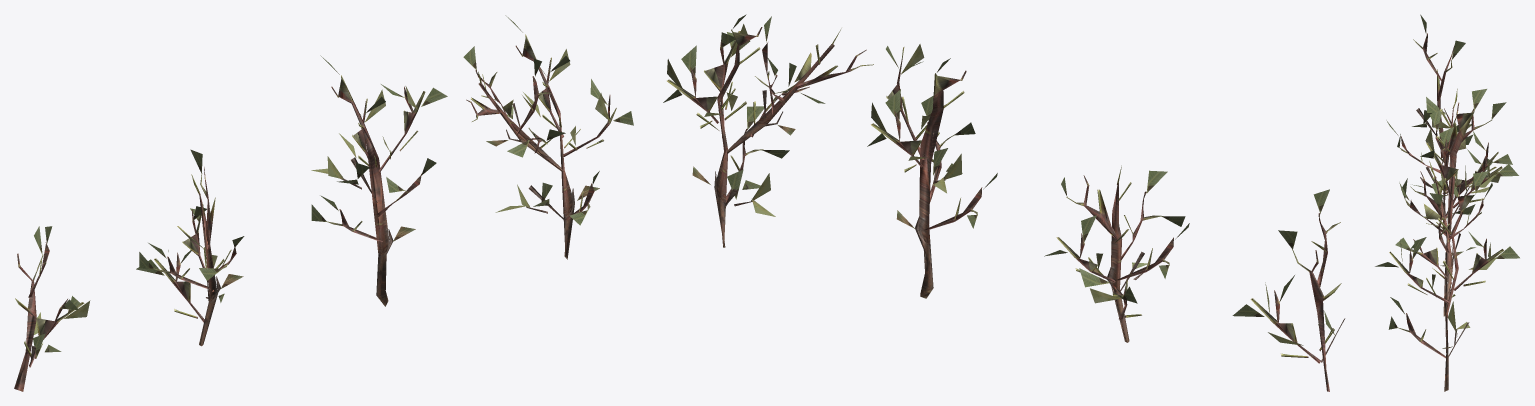
Rendered from hedge.glb.
The picture shows the model from 3 angles, left to right: view 1: azimuth 30°, elevation 25°; view 2: azimuth 150°, elevation 25°; view 3: azimuth 270°, elevation 25°; orthographic projection. The views are drawn at different scales.
Parts seen in each view (by area): view 1: hedge; view 2: hedge; view 3: hedge.
Boxes of the visible parts, x1,y1,x2,y2 form: hedge: (14, 15, 633, 391); hedge: (663, 14, 1345, 391); hedge: (1375, 14, 1519, 391).
Bounding box in the file's own units: 3.51 × 1.39 × 0.8706.
Materials: 1 (1 with a texture image).
